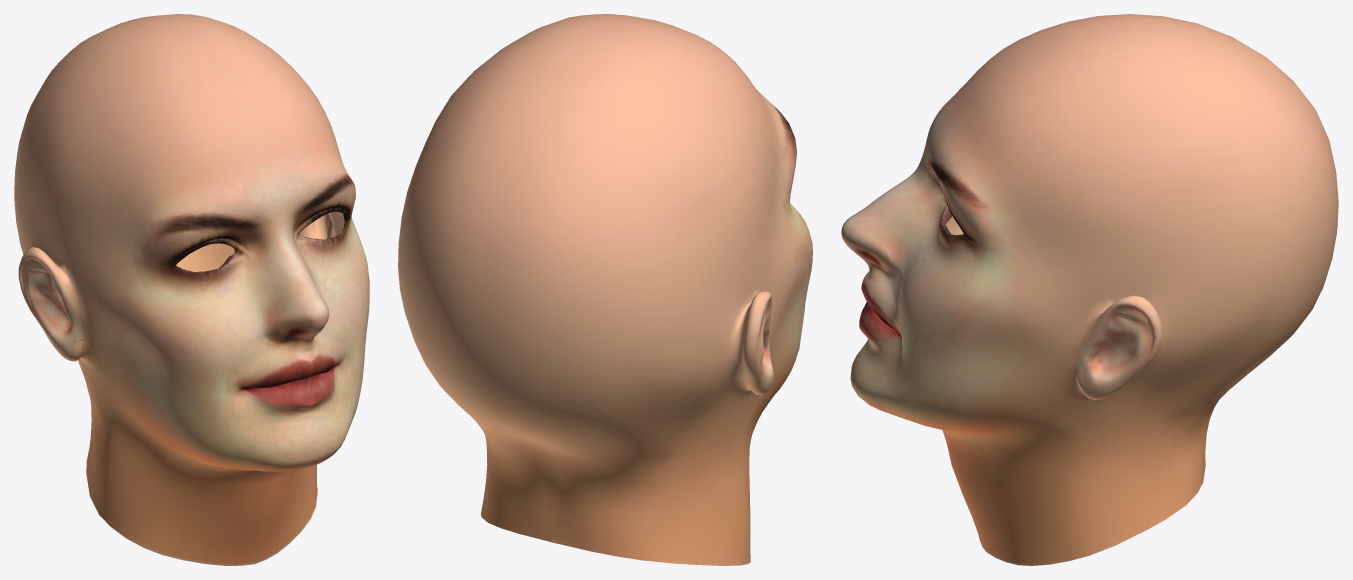
3 views of the same model, side by side, from view 1: azimuth 30°, elevation 25°; view 2: azimuth 150°, elevation 25°; view 3: azimuth 270°, elevation 25° (orthographic). The views are drawn at different scales.
Parts seen in each view (by area): view 1: FaceGen; view 2: FaceGen; view 3: FaceGen.
Part boxes in pixels (x1=…): FaceGen: x1=14, y1=14, x2=369, y2=565; FaceGen: x1=398, y1=14, x2=812, y2=565; FaceGen: x1=841, y1=14, x2=1338, y2=565.
Size of the model in its own units: 188 by 281 by 247.
1 material, 1 textured.
